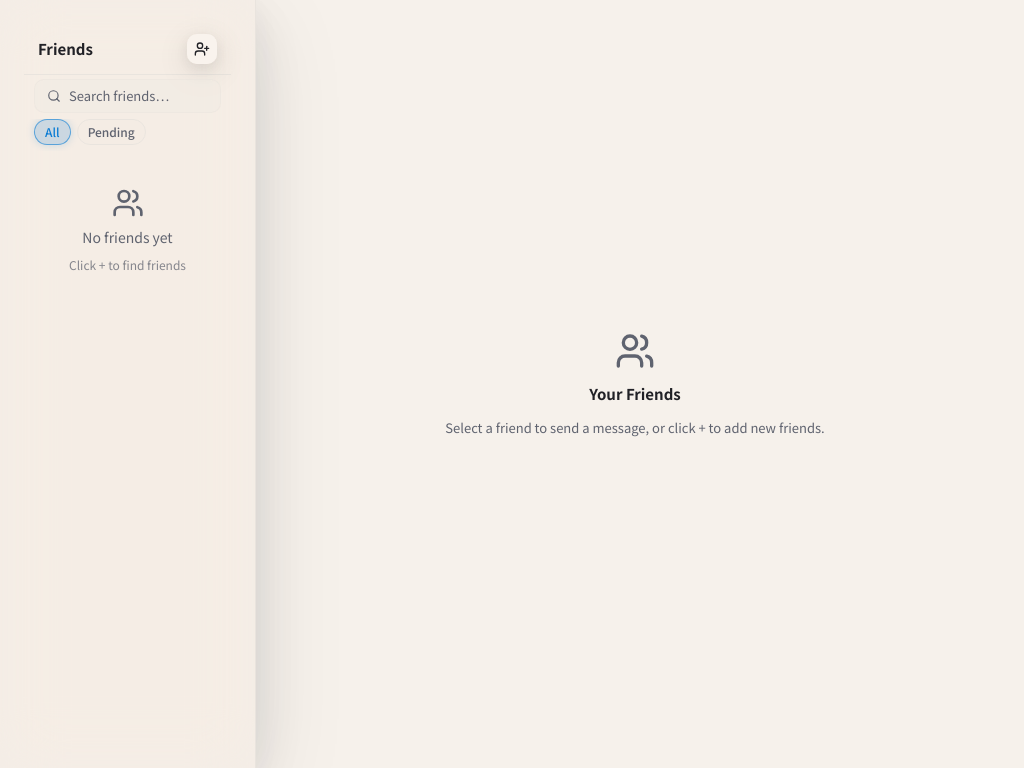
Test: TC-F-NEW-02: Search results show PENDING_SENT for outgoing requests › shows Pending button when search result already has a sent request
Open AddFriendModal — user search is behind the modal
Click the button named "add friend". click: [202, 49]
box: left=187, top=34, right=217, bottom=64
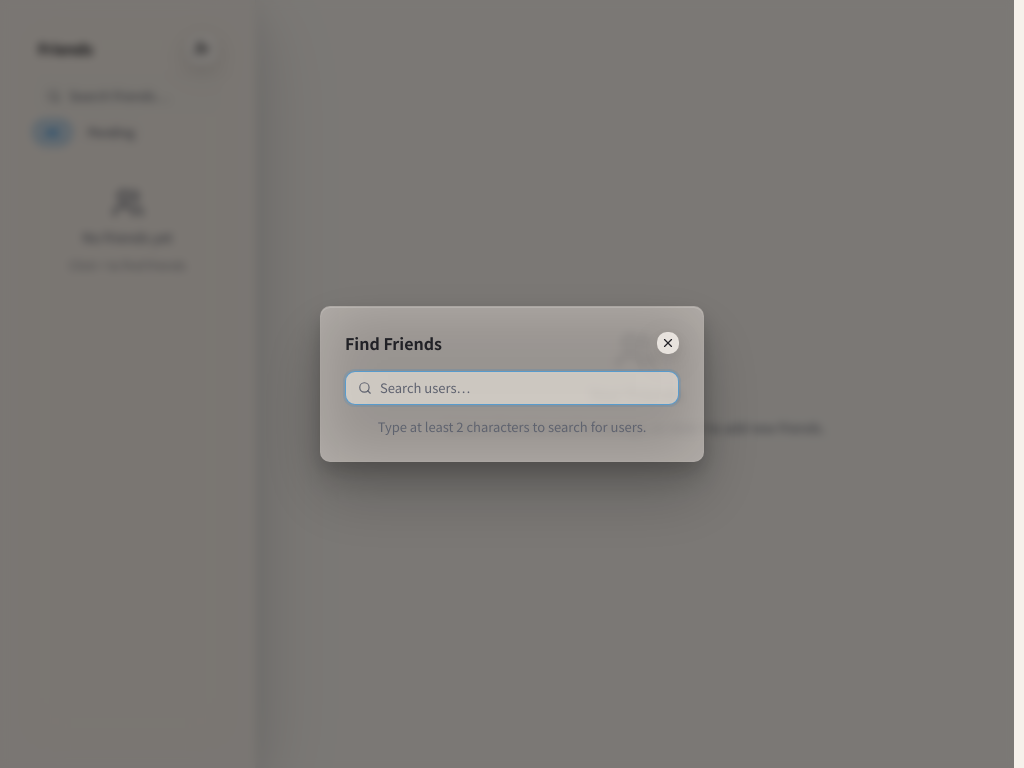
Type "Henry" into the search field with placeholder "Search users…". click: [523, 388]
box: left=380, top=378, right=666, bottom=398
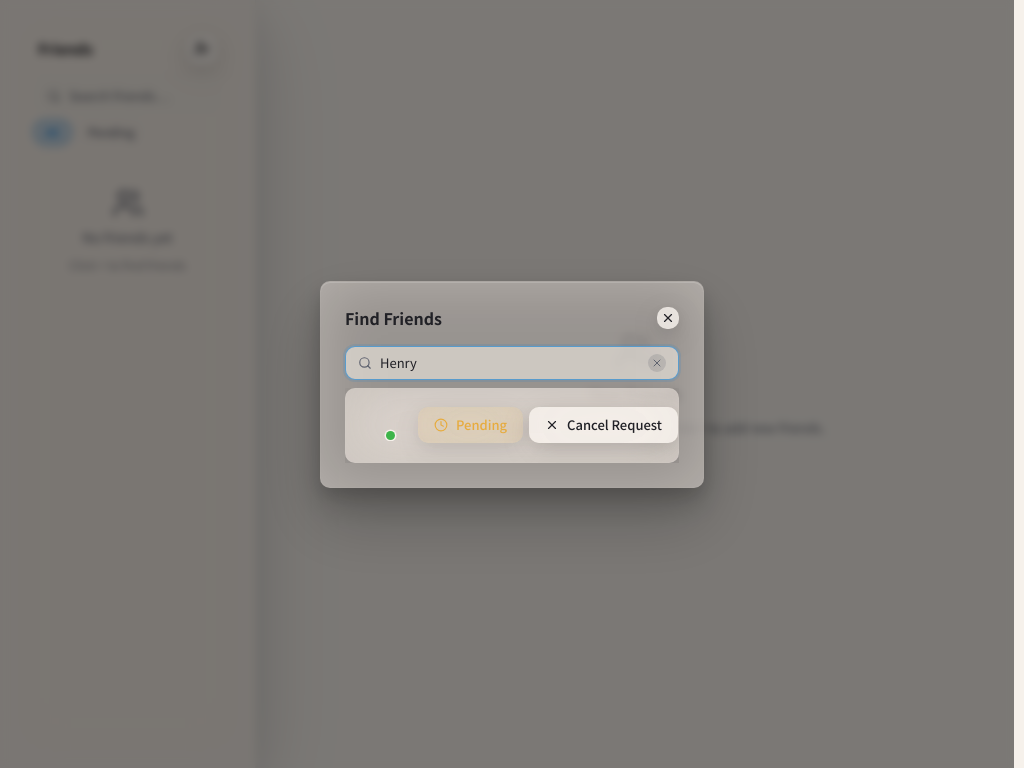
Expected: the element with test id "user-card-user-8" is shown, left=345, top=388, right=679, bottom=462
Expected: the button "Pending" is shown, left=418, top=407, right=523, bottom=443
